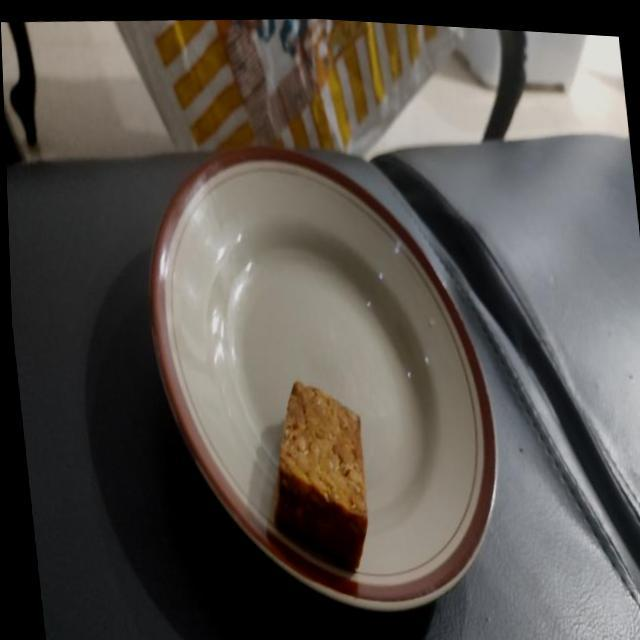tempe_goreng: (274, 382, 367, 568)
